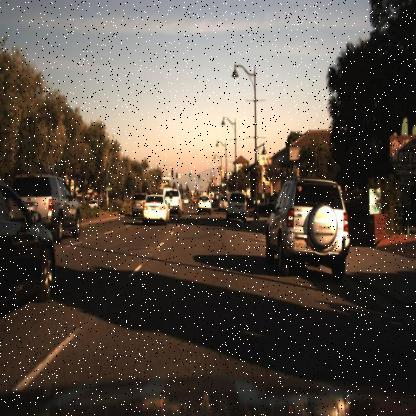car: (266, 173, 352, 267), (0, 178, 57, 314), (9, 171, 80, 240), (142, 193, 169, 228), (226, 192, 246, 223), (166, 187, 182, 216), (131, 192, 146, 219), (196, 192, 211, 215), (218, 192, 230, 214)
